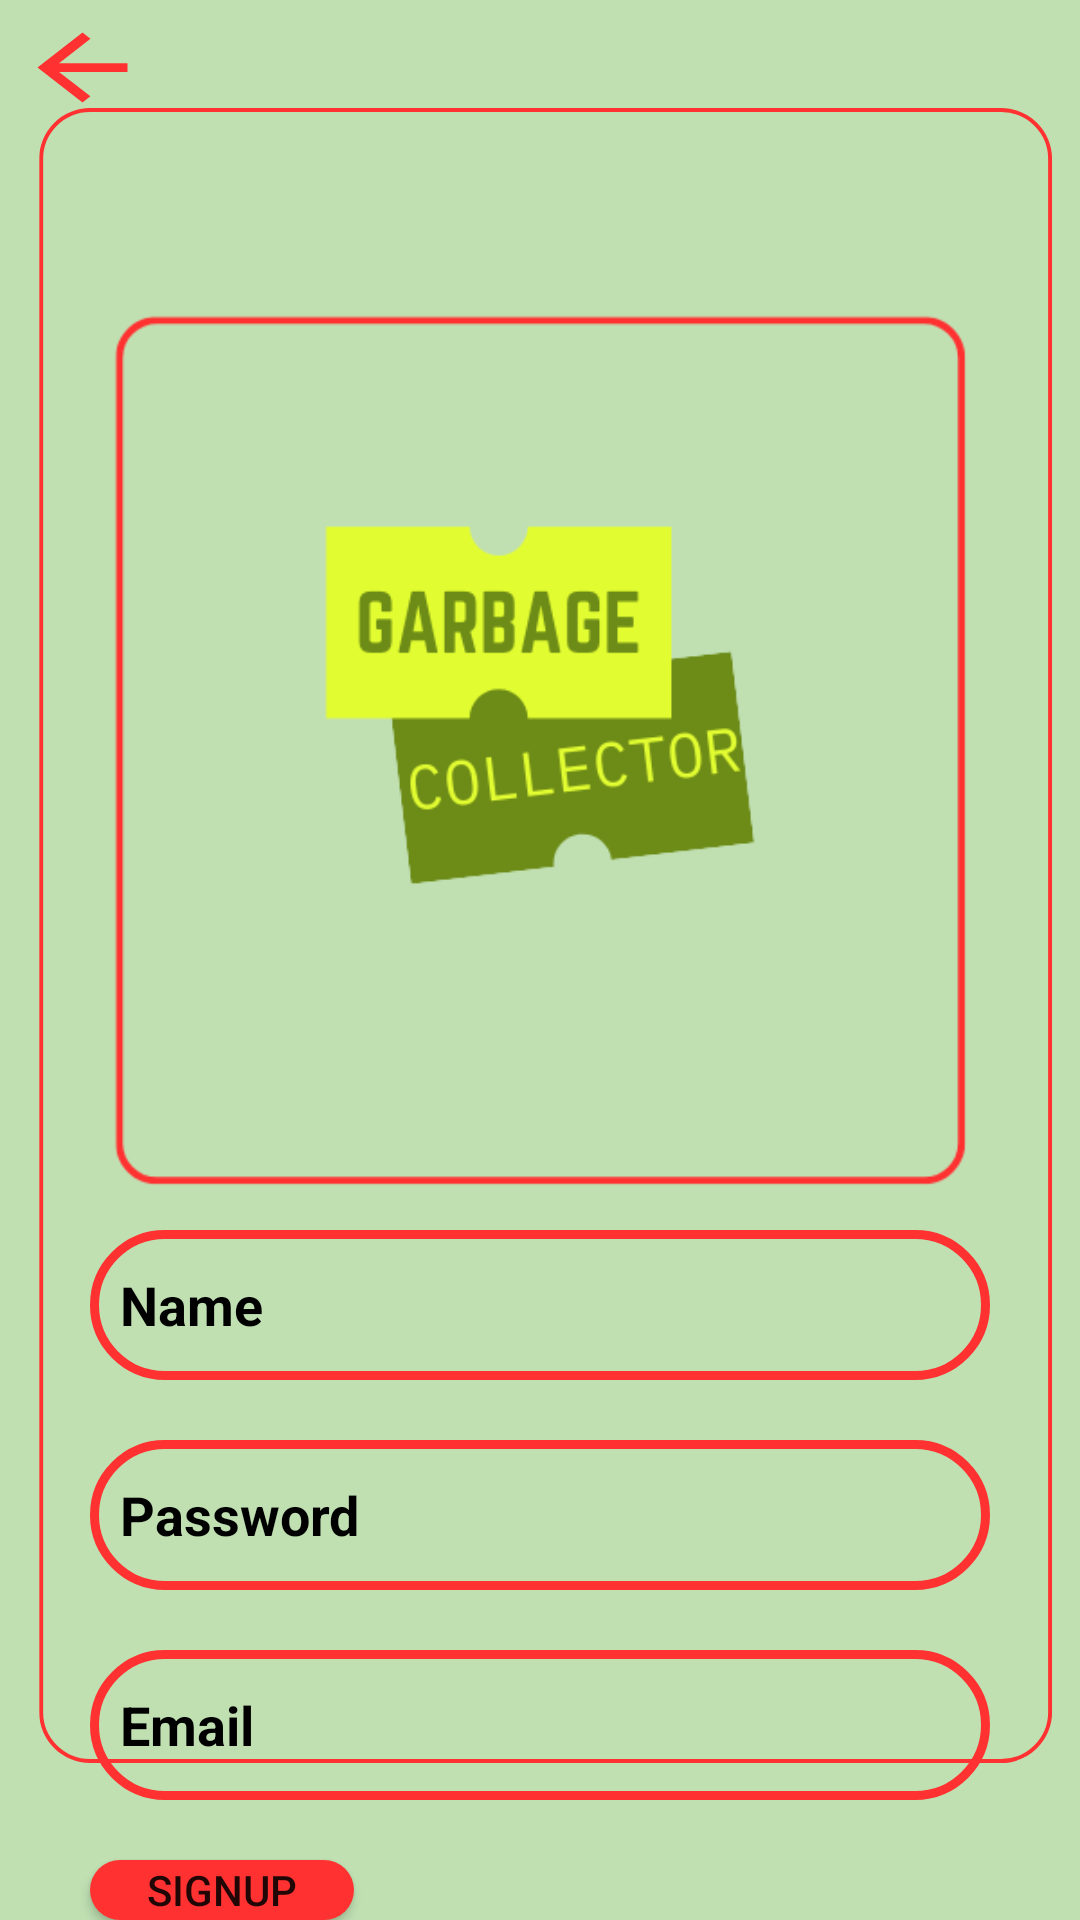

Icons on this 1080 x 1920 Android screen, each with the point to tap as point (x, y):
back: point (82, 67)
